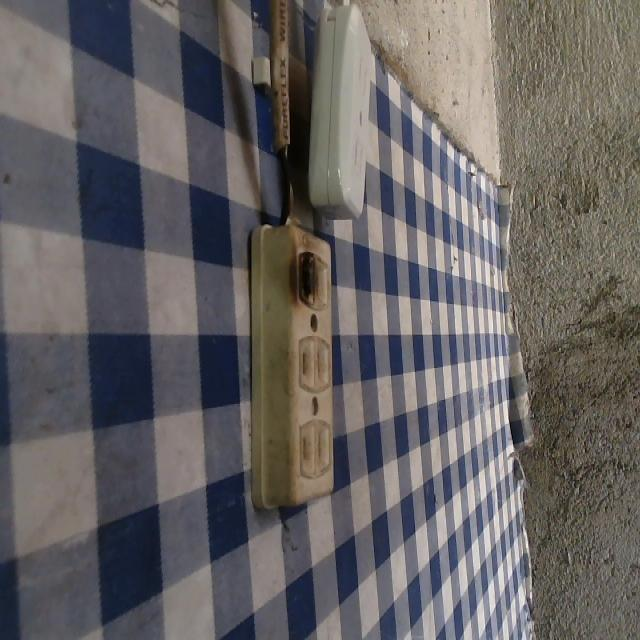-: (292, 243, 322, 309)
